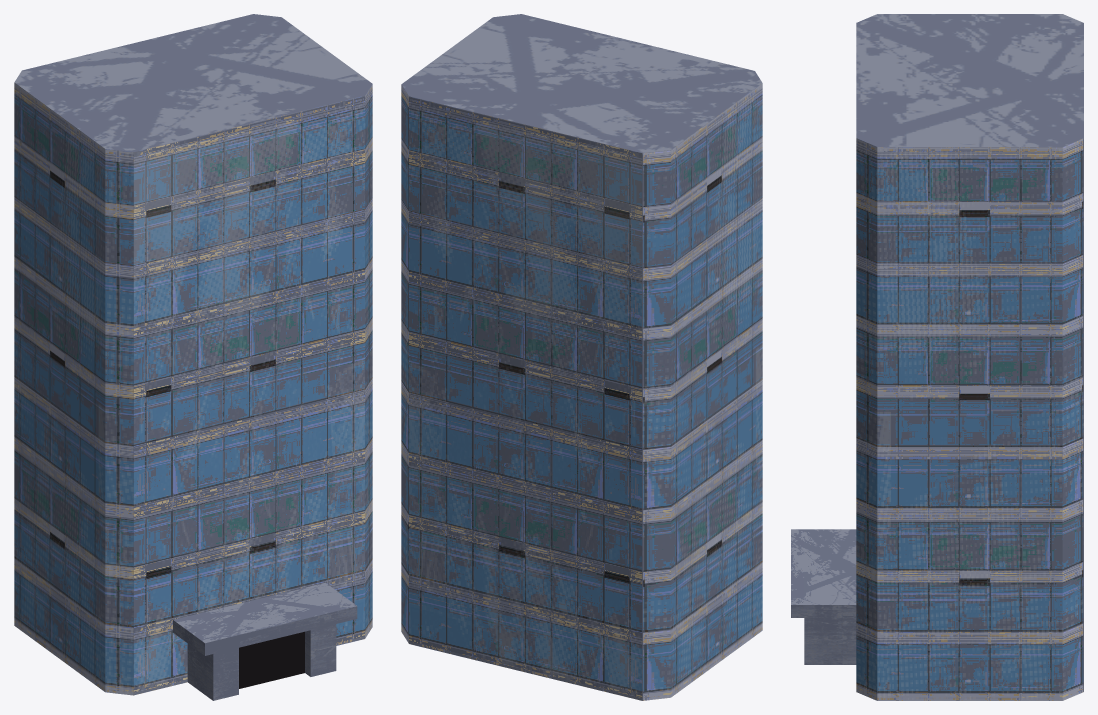
File: building_3.fbx
The picture shows the model from 3 angles, left to right: view 1: azimuth 30°, elevation 25°; view 2: azimuth 150°, elevation 25°; view 3: azimuth 270°, elevation 25°; orthographic projection.
Parts seen in each view (by area): view 1: Building 3 Door; view 2: Building 3 Door; view 3: Building 3 Door.
Boxes of the visible parts, box(x1,y1,x2,y2) form: Building 3 Door: box(14, 14, 372, 700); Building 3 Door: box(401, 14, 762, 700); Building 3 Door: box(791, 14, 1083, 700).
Size of the model in its own units: 2400 by 4661 by 2232.
